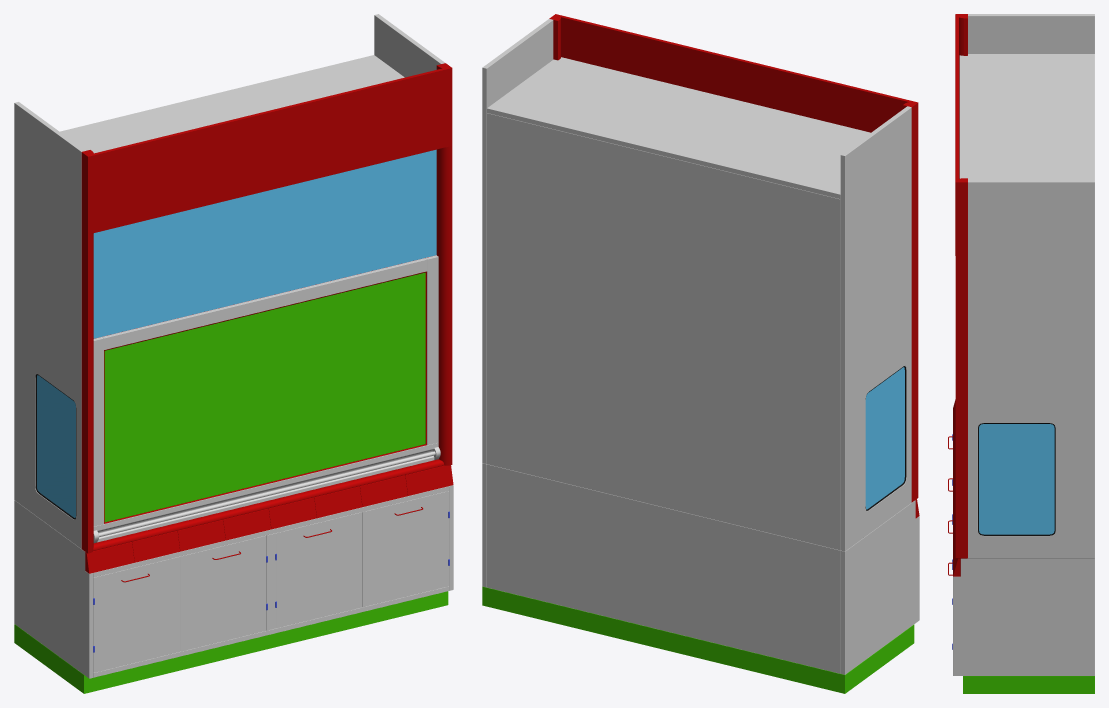
The model's file is Cupboard01.fbx.
The picture shows the model from 3 angles, left to right: view 1: azimuth 30°, elevation 25°; view 2: azimuth 150°, elevation 25°; view 3: azimuth 270°, elevation 25°; orthographic projection. The views are drawn at different scales.
Visible parts, largest first — view 1: Cupboard01, CupboardDoor, Drawer01, Drawer02, Drawer04, Drawer03; view 2: Cupboard01; view 3: Cupboard01.
Part boxes in pixels (x1,y1,x2,y2): Cupboard01: [14, 14, 453, 693]; CupboardDoor: [93, 255, 440, 543]; Drawer01: [93, 556, 180, 672]; Drawer02: [180, 535, 266, 651]; Drawer04: [362, 491, 448, 607]; Drawer03: [276, 512, 362, 628]; Cupboard01: [482, 14, 919, 693]; Cupboard01: [952, 14, 1094, 693].
Size of the model in its own units: 200 by 73.75 by 283.
